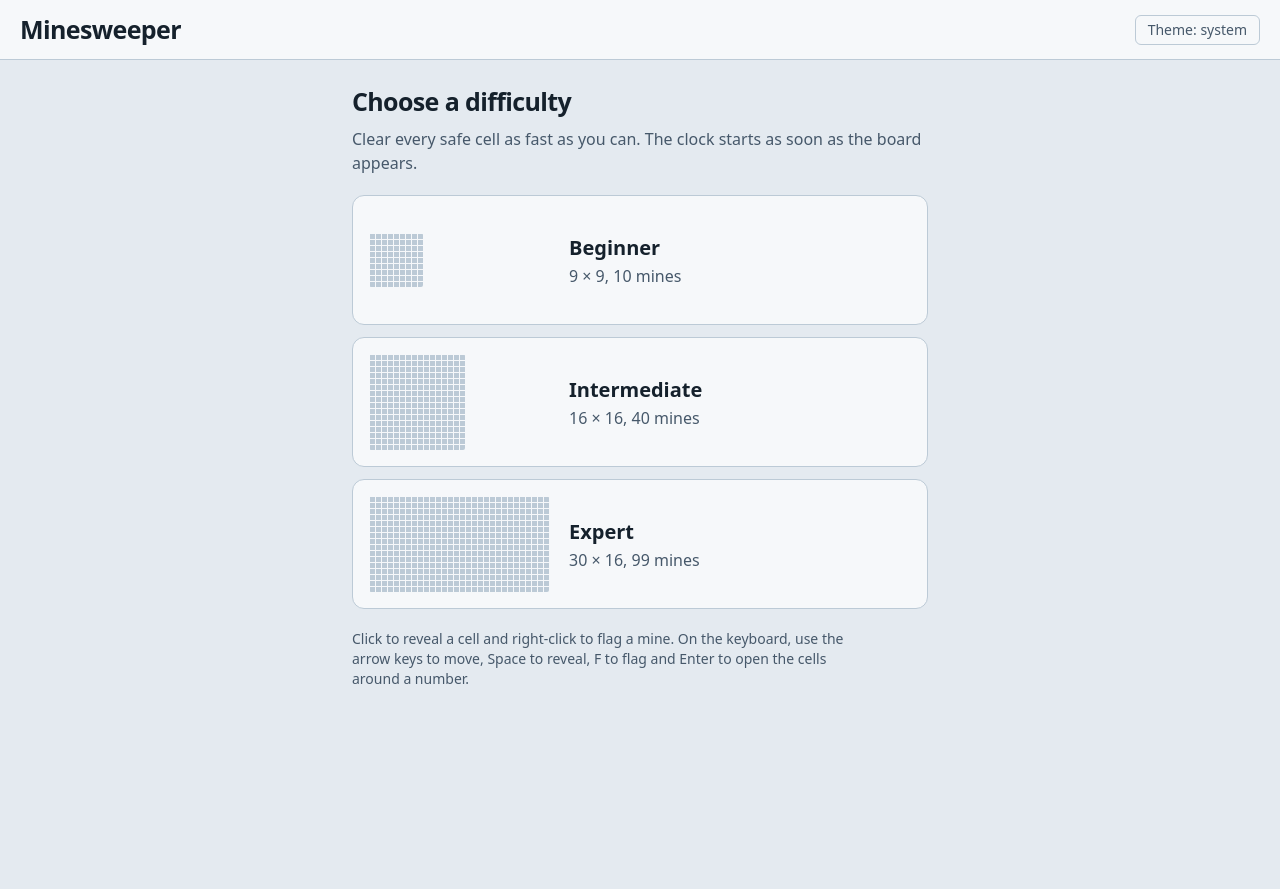
Test: App flow (plain) › shows a lost game as a result, then returns to the menu with nothing left running
Click the button "Intermediate 16 × 16, 40 mines".
click(640, 402)  # box [352,337,928,467]
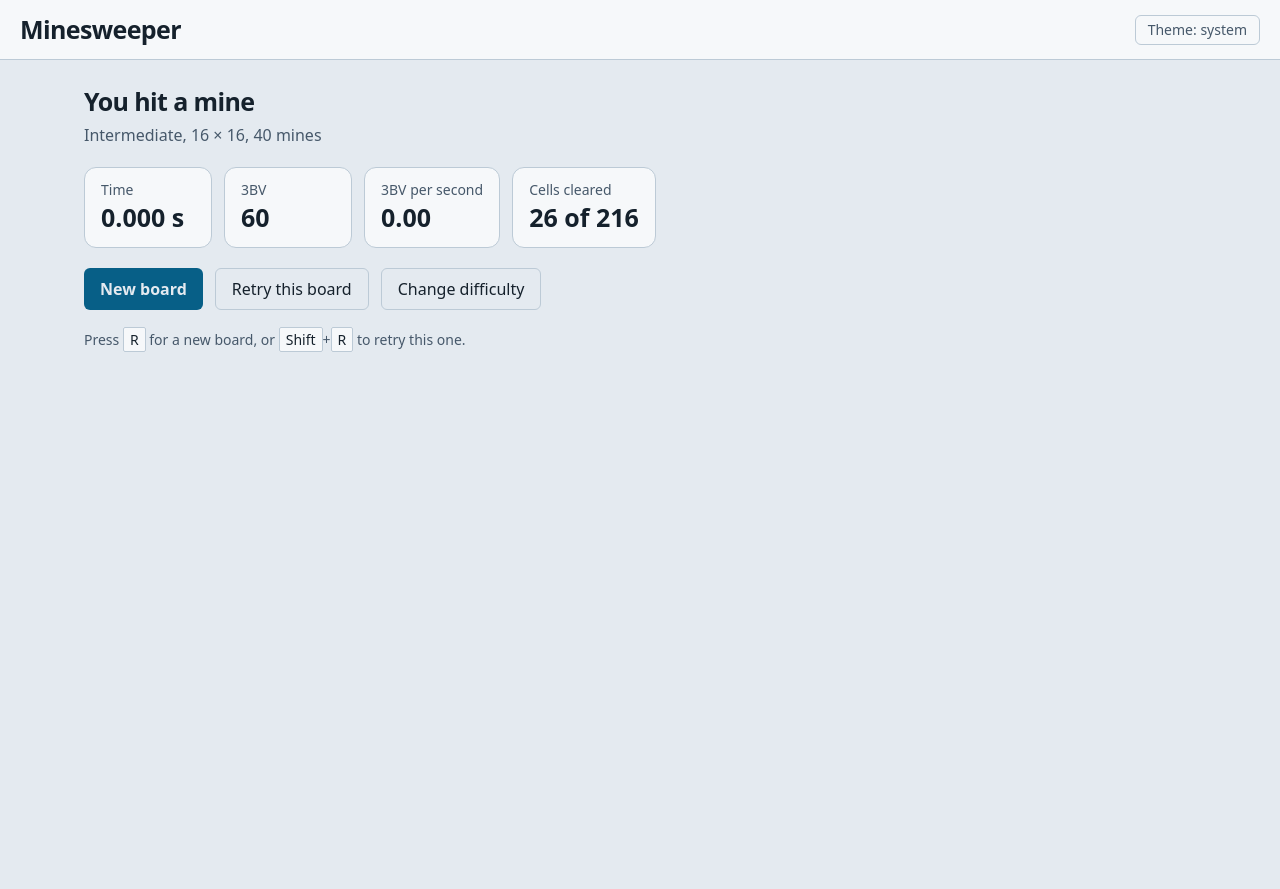
Expected: the heading "You hit a mine" is shown, [84,84,254,118]
Click the button "Change difficulty".
click(461, 289)  # box [381,268,541,310]
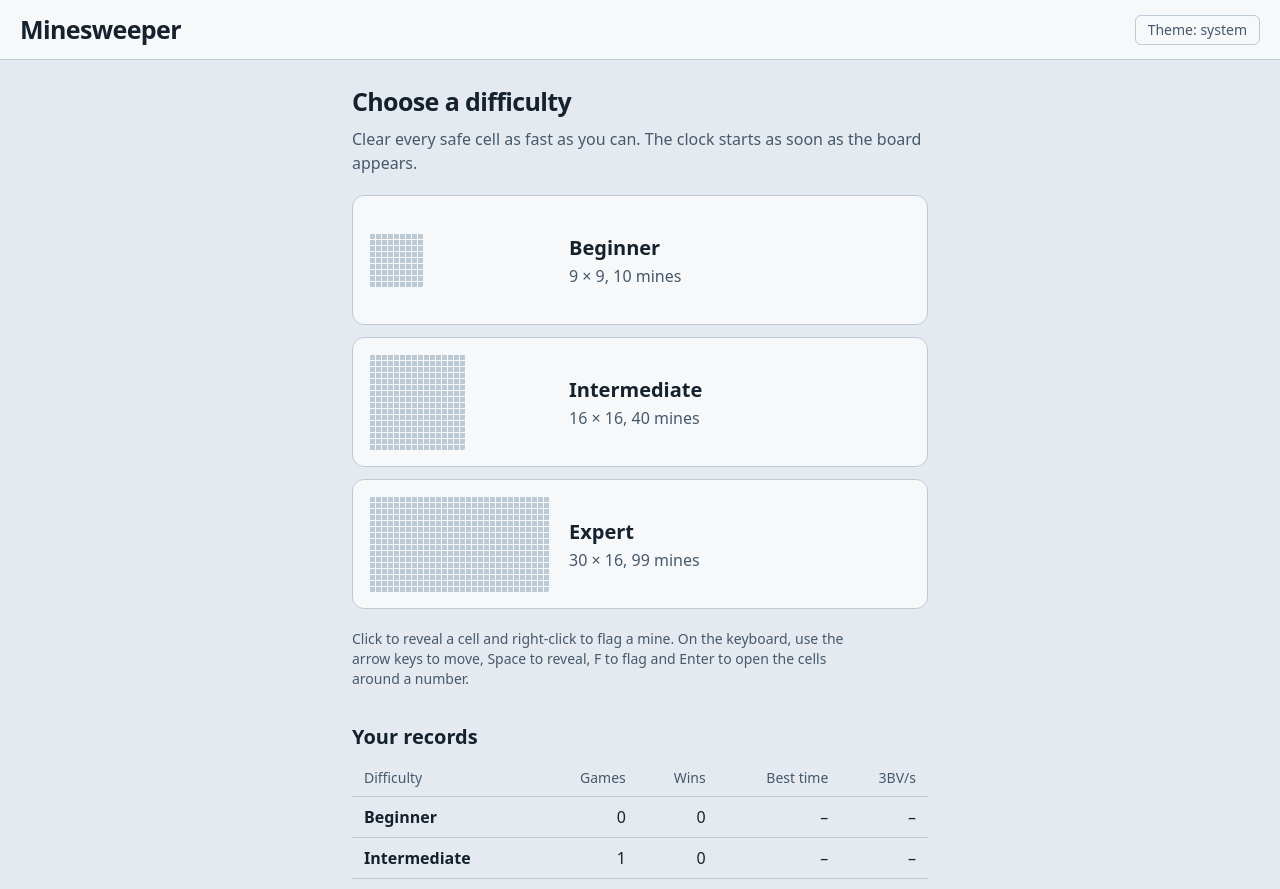
Expected: the heading "Choose a difficulty" is shown, [352,84,571,118]
